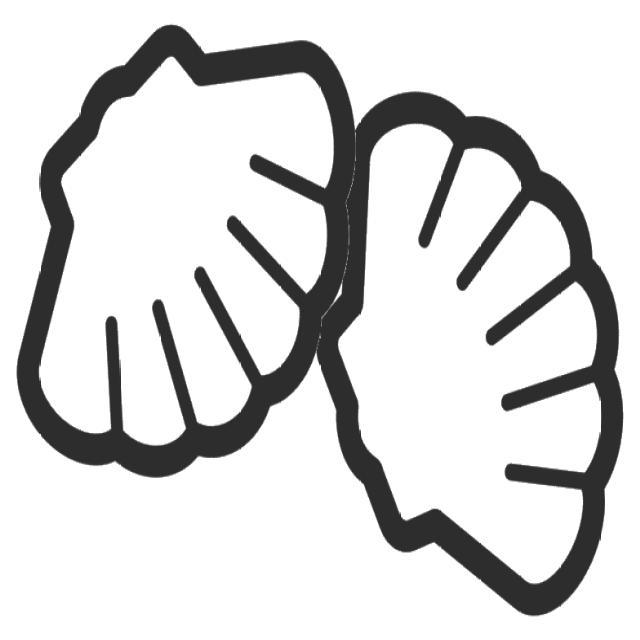shell: (306, 82, 632, 630), (10, 14, 366, 489)
